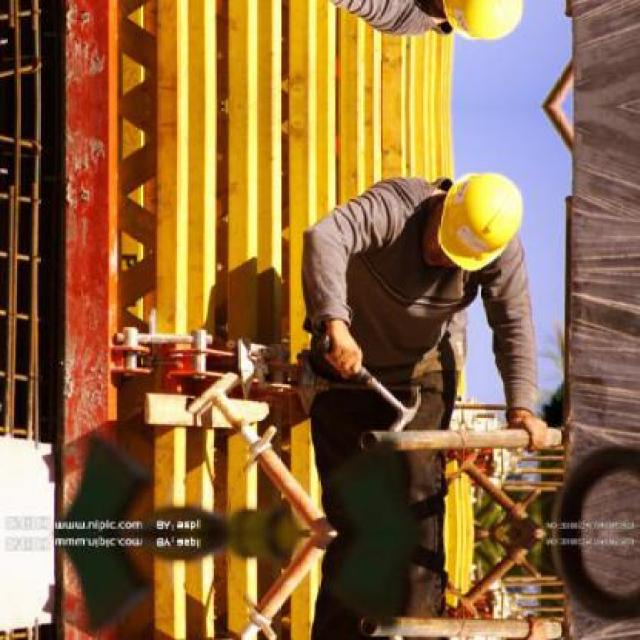helmet: (434, 163, 532, 292), (434, 0, 534, 51)
